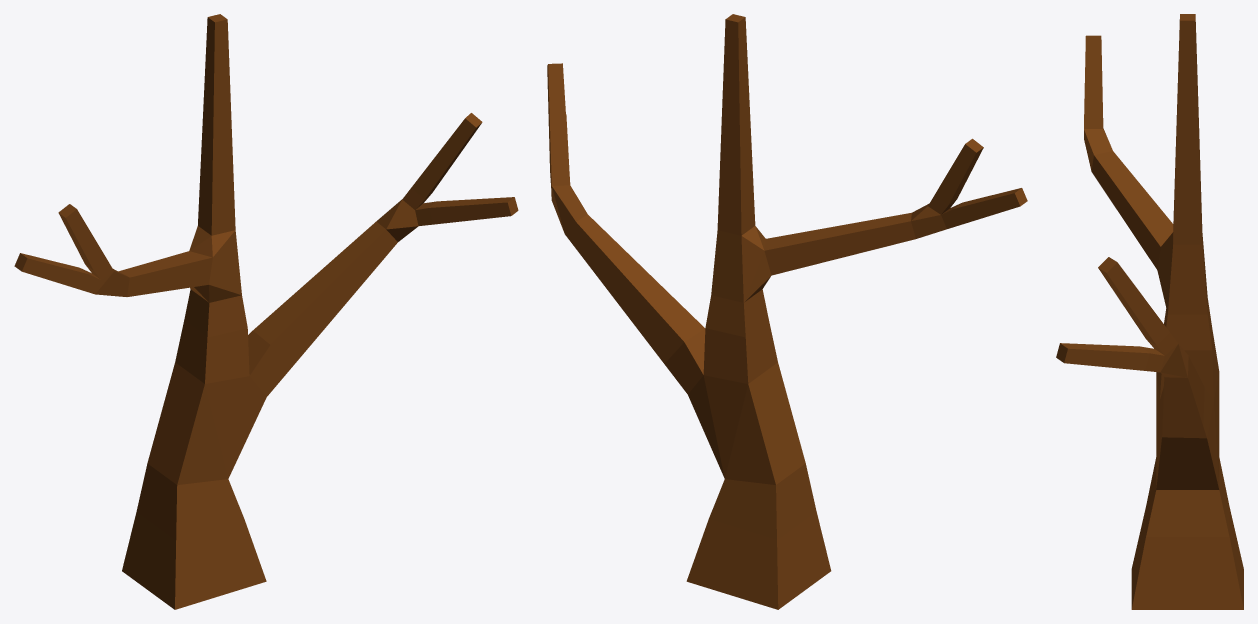
The model's file is Tree_31.fbx.
3 renders of one model, left to right at view 1: azimuth 30°, elevation 25°; view 2: azimuth 150°, elevation 25°; view 3: azimuth 270°, elevation 25°, orthographic. The views are drawn at different scales.
Parts seen in each view (by area): view 1: Tree_31; view 2: Tree_31; view 3: Tree_31.
Boxes of the visible parts, left/top/right/bottom form: Tree_31: left=14, top=14, right=518, bottom=609; Tree_31: left=547, top=14, right=1027, bottom=609; Tree_31: left=1056, top=14, right=1243, bottom=609.
Bounding box in the file's own units: 1250 × 1364 × 395.
